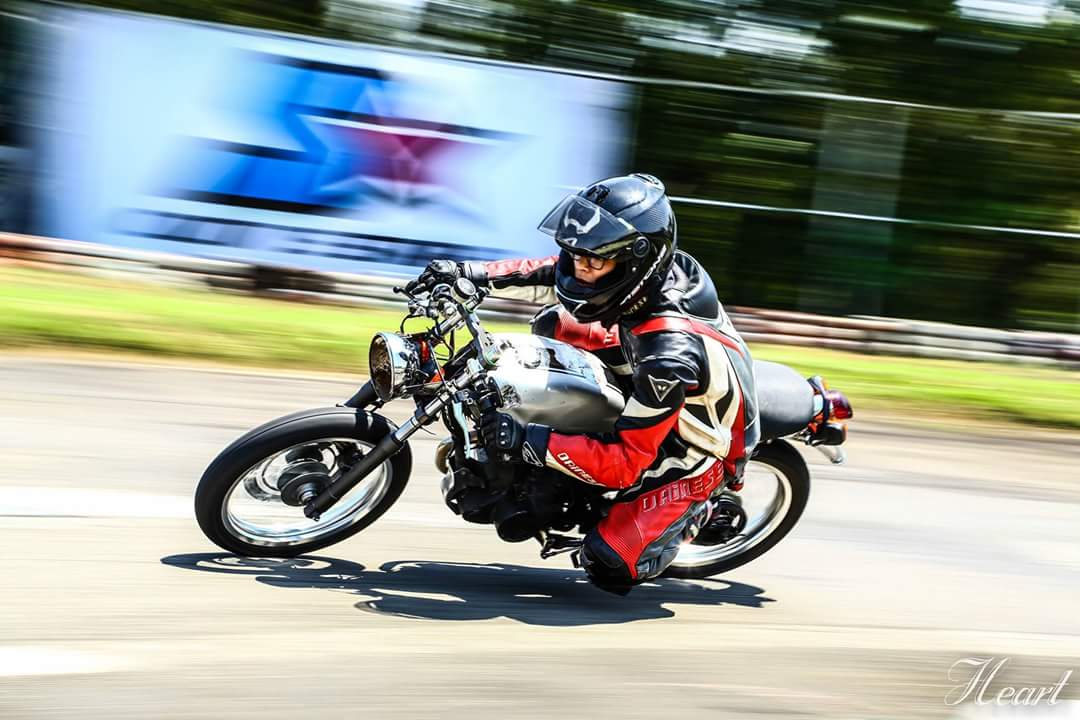helmet: (542, 184, 694, 326)
